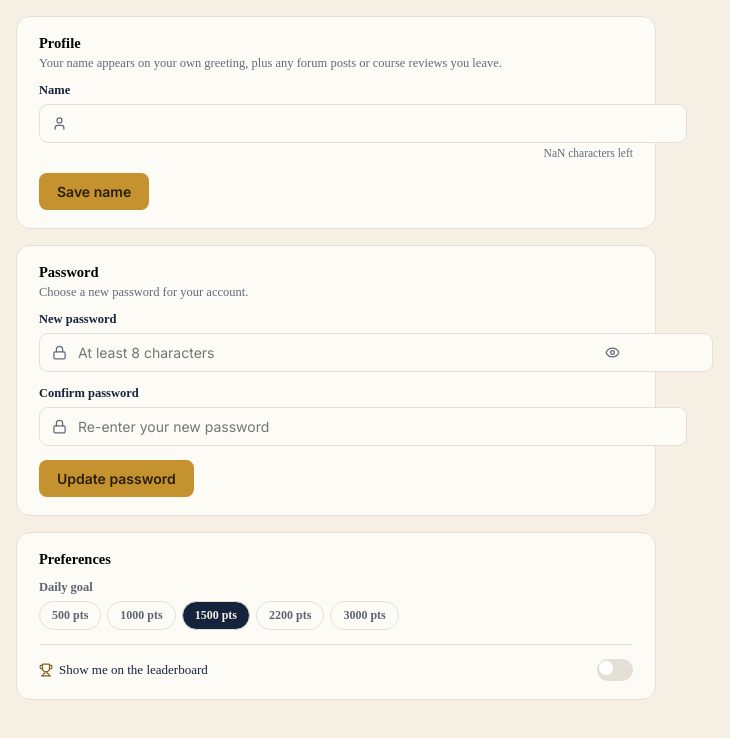
Scenario: SettingsScreen — password › shows a mismatch error when confirm does not match
The width and height of the screenshot is (730, 738).
Type "password123" into the password field labelled "New password".
click(376, 352); type("password123")  # box [39,333,713,372]
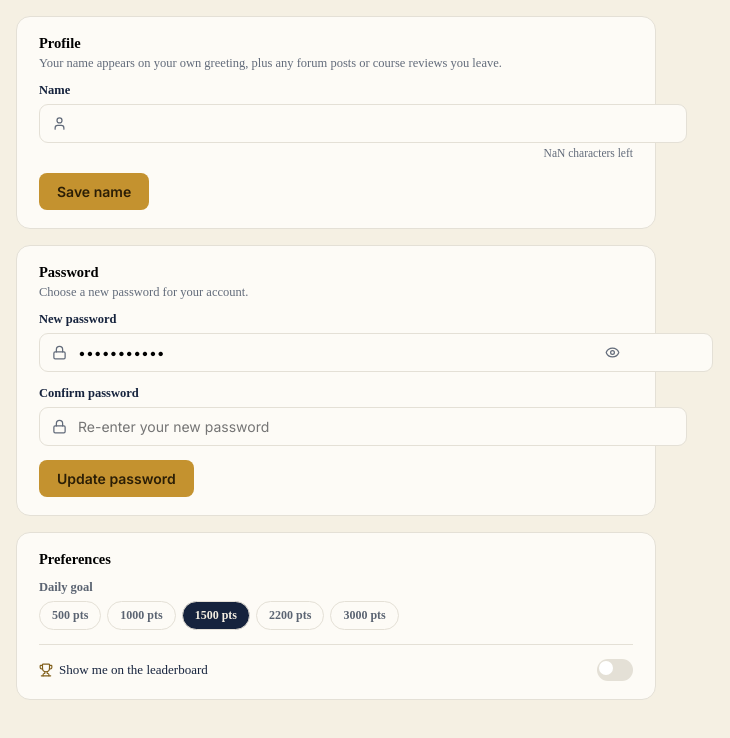
Type "different123" into the password field labelled "Confirm password".
click(363, 426); type("different123")  # box [39,407,687,446]
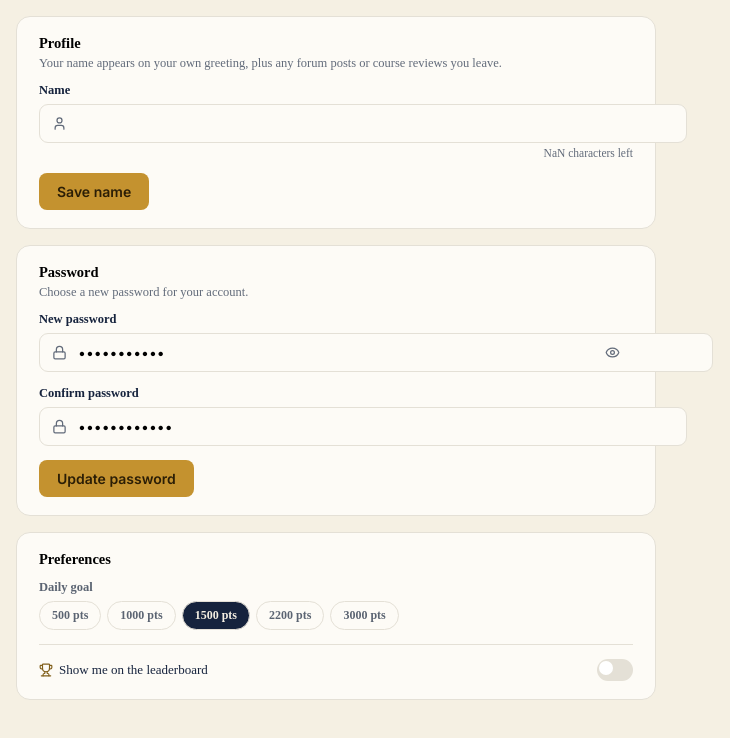
Click the button "Update password".
click(116, 478)  # box [39,460,194,497]
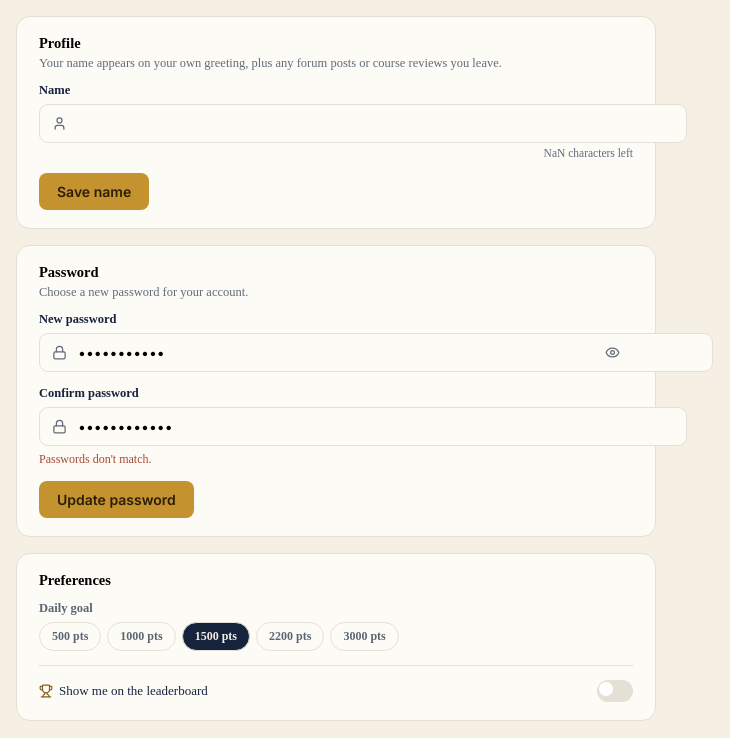
Now the text "Passwords don't match." is shown, box [39,452,152,466]
